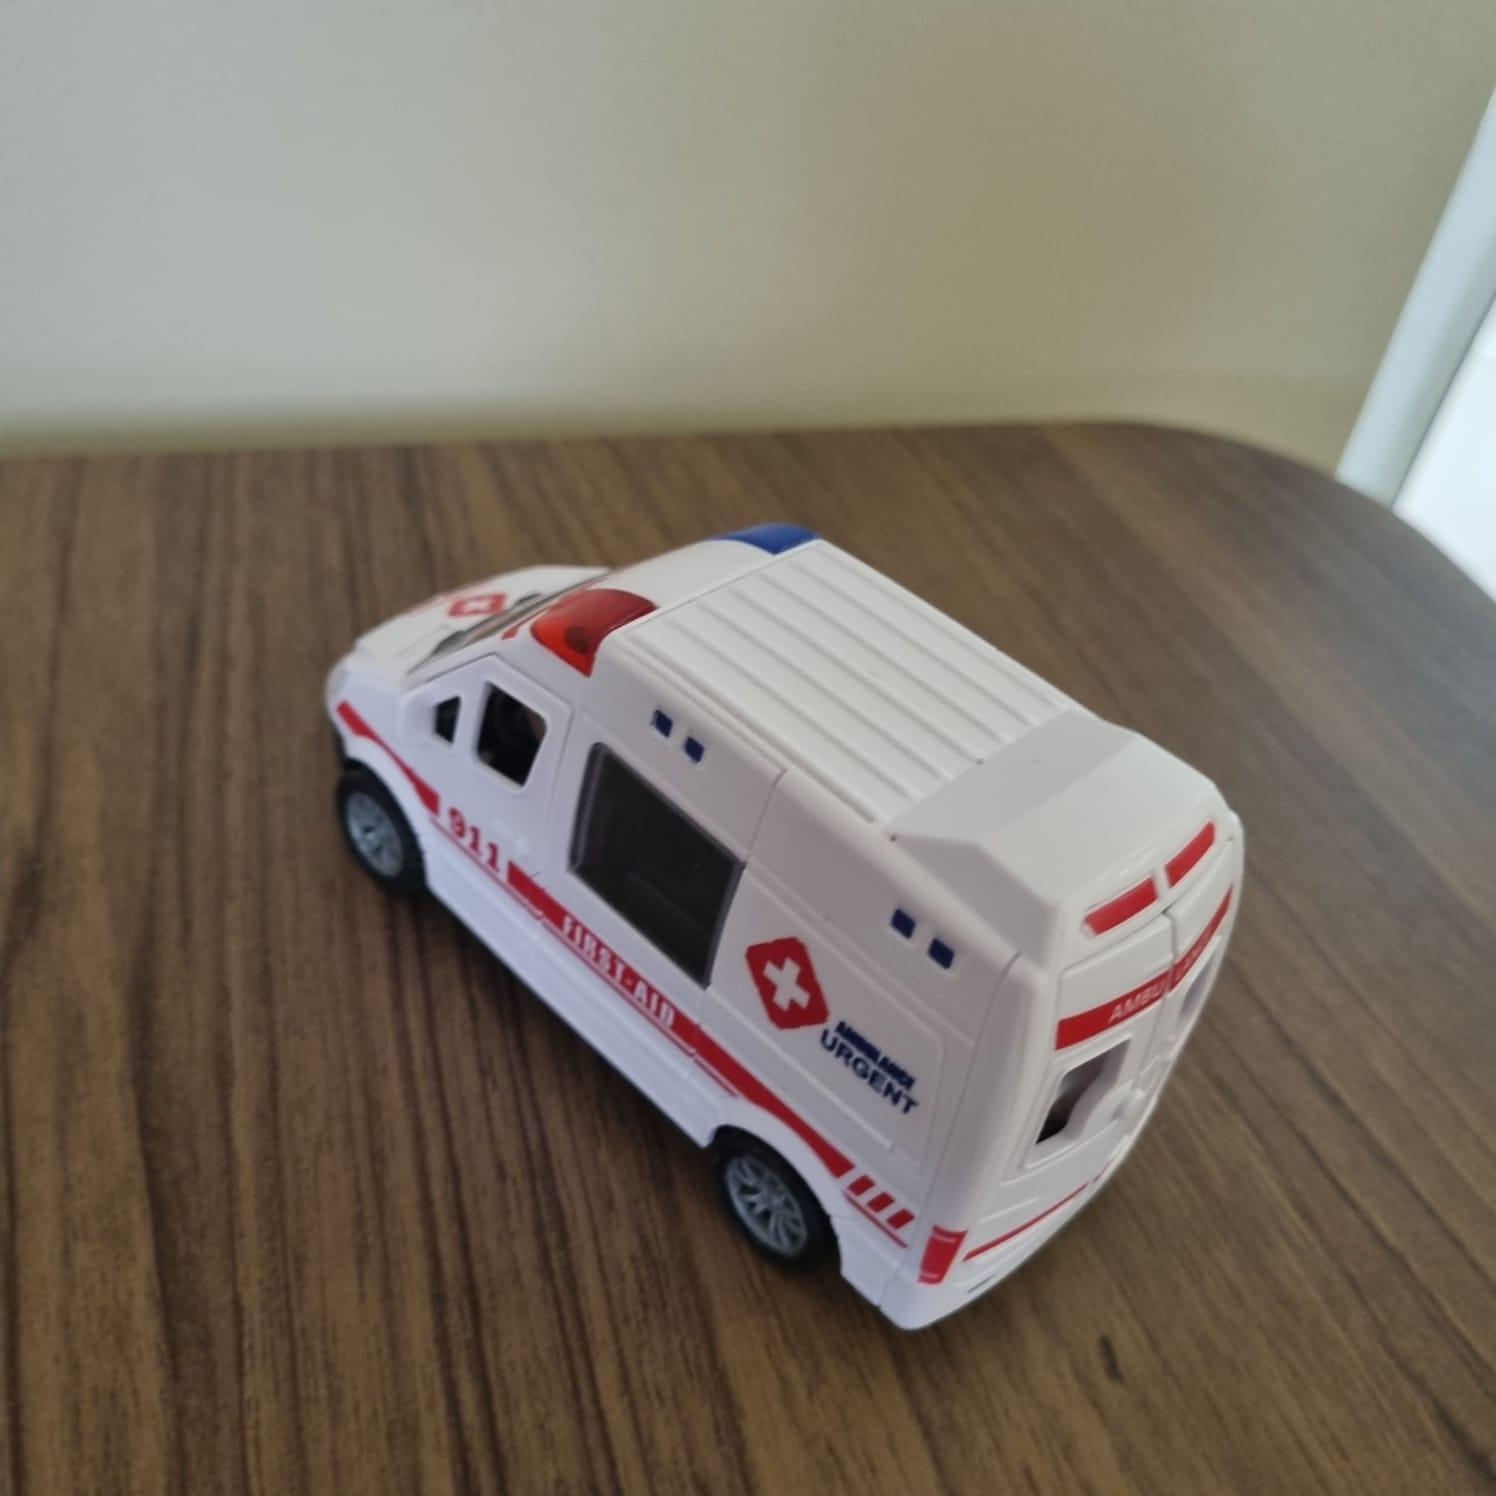ambulance_off: (318, 516, 1254, 1336)
